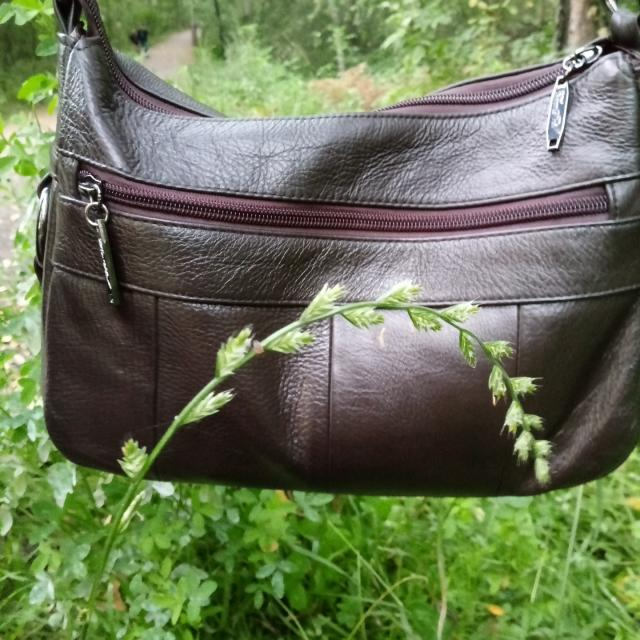Lolium: (103, 276, 557, 497)
